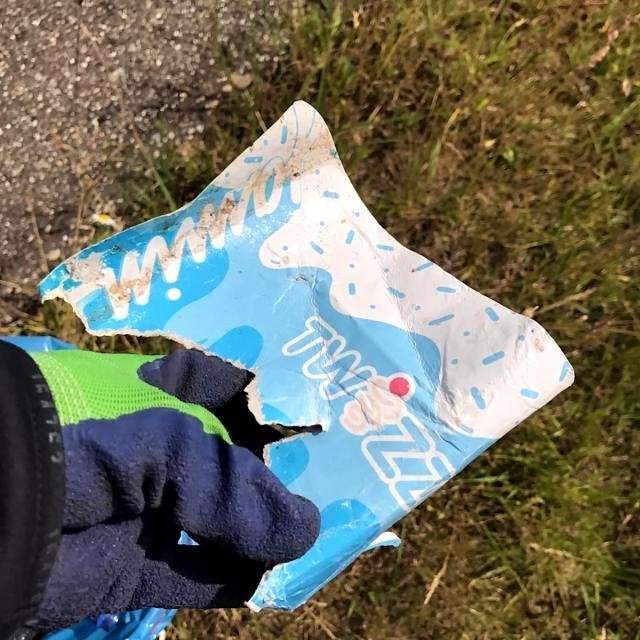Paper: (33, 92, 584, 618)
